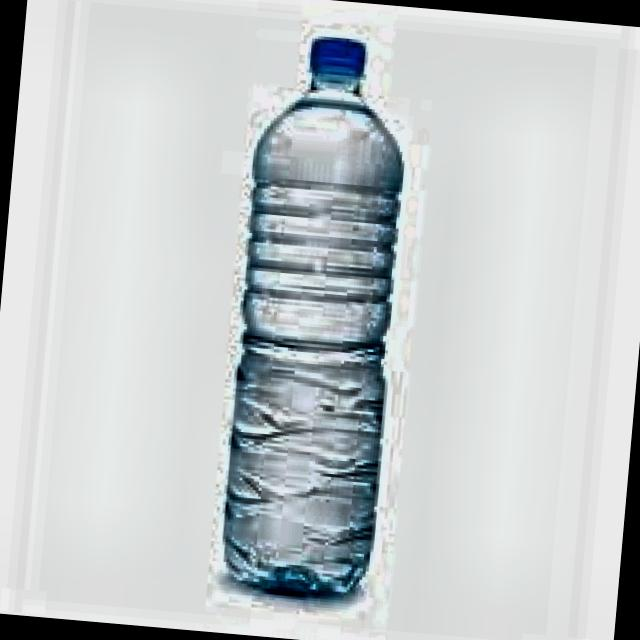plastic bottle: (224, 37, 402, 592)
